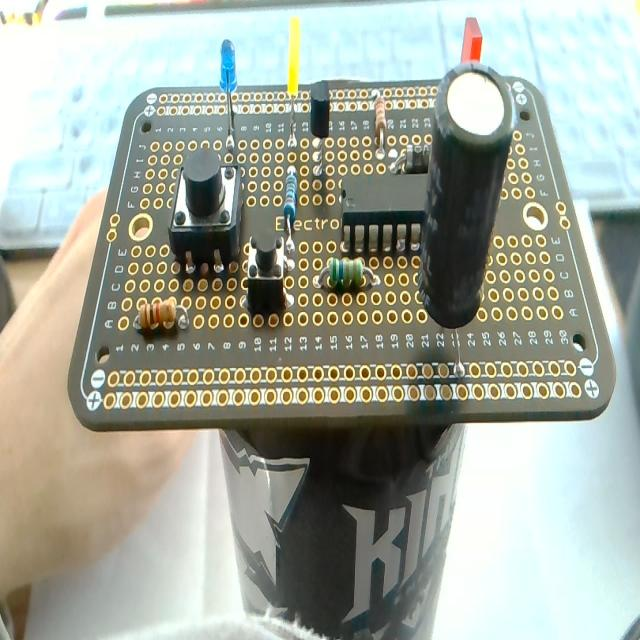Electrolytic capacitor: (420, 64, 514, 327)
IC: (343, 163, 427, 249)
diode: (394, 133, 444, 177)
led: (218, 35, 240, 157), (285, 18, 301, 163), (457, 14, 489, 66)
resistor: (316, 259, 379, 294), (134, 301, 188, 334), (282, 170, 298, 260), (374, 91, 387, 152)
switch: (167, 155, 246, 273), (243, 230, 289, 316)
transistor: (309, 81, 332, 187)
